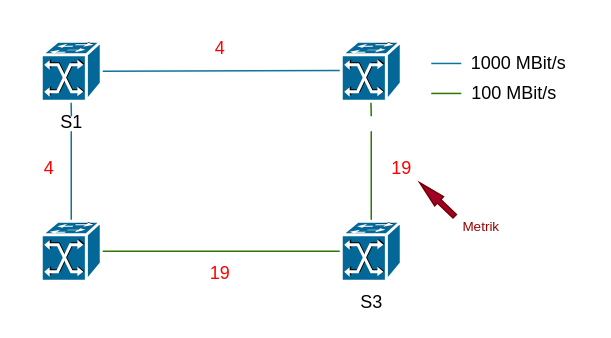
The diagram is 611 pixels wide and 338 high, and some of its shapes have lost their labels. The box of each missing label's shape, as (x1, y1, x2, y2) in pixels:
S2: (339, 39, 402, 102)
S4: (39, 219, 102, 282)
